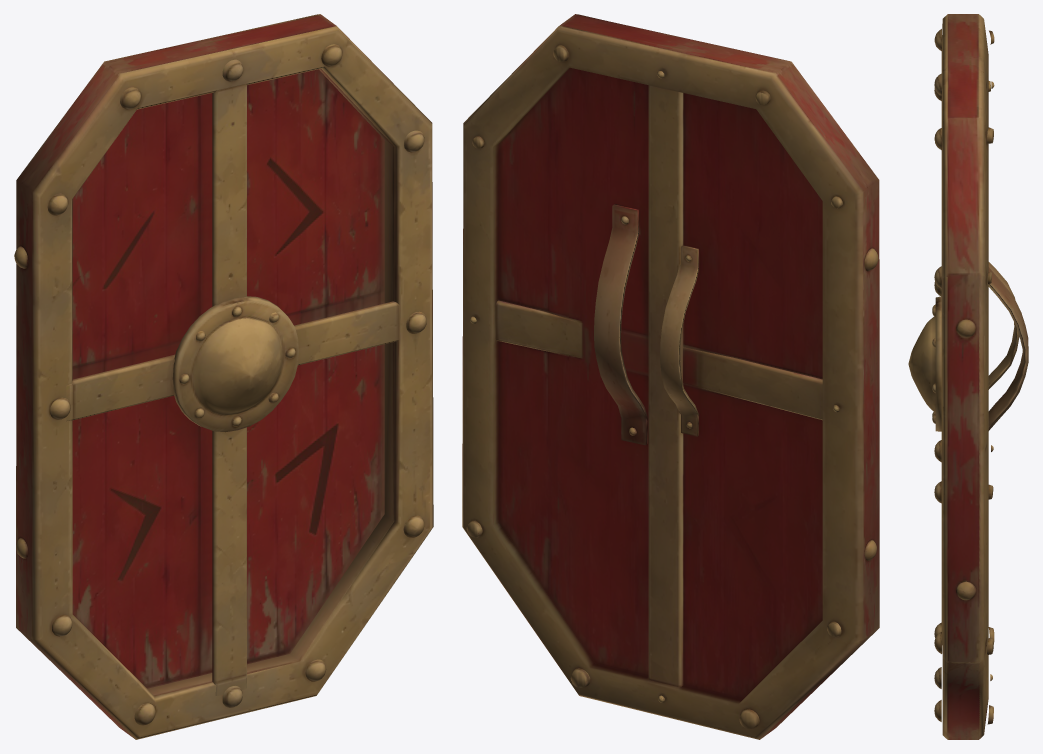
The model's file is escudo-eromash-base.glb.
3 renders of one model, left to right at view 1: azimuth 30°, elevation 25°; view 2: azimuth 150°, elevation 25°; view 3: azimuth 270°, elevation 25°, orthographic. The views are drawn at different scales.
Parts seen in each view (by area): view 1: tripo_7149c7f2_549f_41bc_a102_351979c812ad; view 2: tripo_7149c7f2_549f_41bc_a102_351979c812ad; view 3: tripo_7149c7f2_549f_41bc_a102_351979c812ad.
Part boxes in pixels (left/top/right/bottom): tripo_7149c7f2_549f_41bc_a102_351979c812ad: left=14, top=14, right=433, bottom=739; tripo_7149c7f2_549f_41bc_a102_351979c812ad: left=462, top=14, right=879, bottom=739; tripo_7149c7f2_549f_41bc_a102_351979c812ad: left=908, top=14, right=1028, bottom=739.
Size of the model in its own units: 0.644 by 0.9995 by 0.1714.
1 material, 1 textured.
